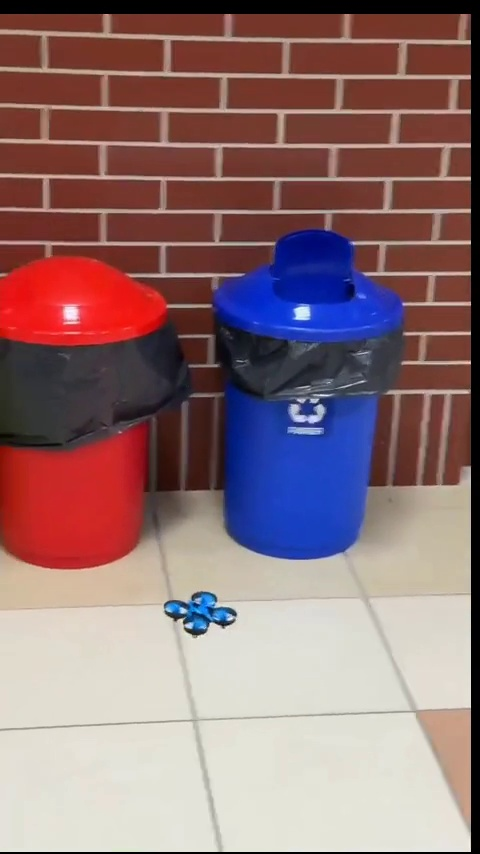drone: (162, 588, 233, 640)
